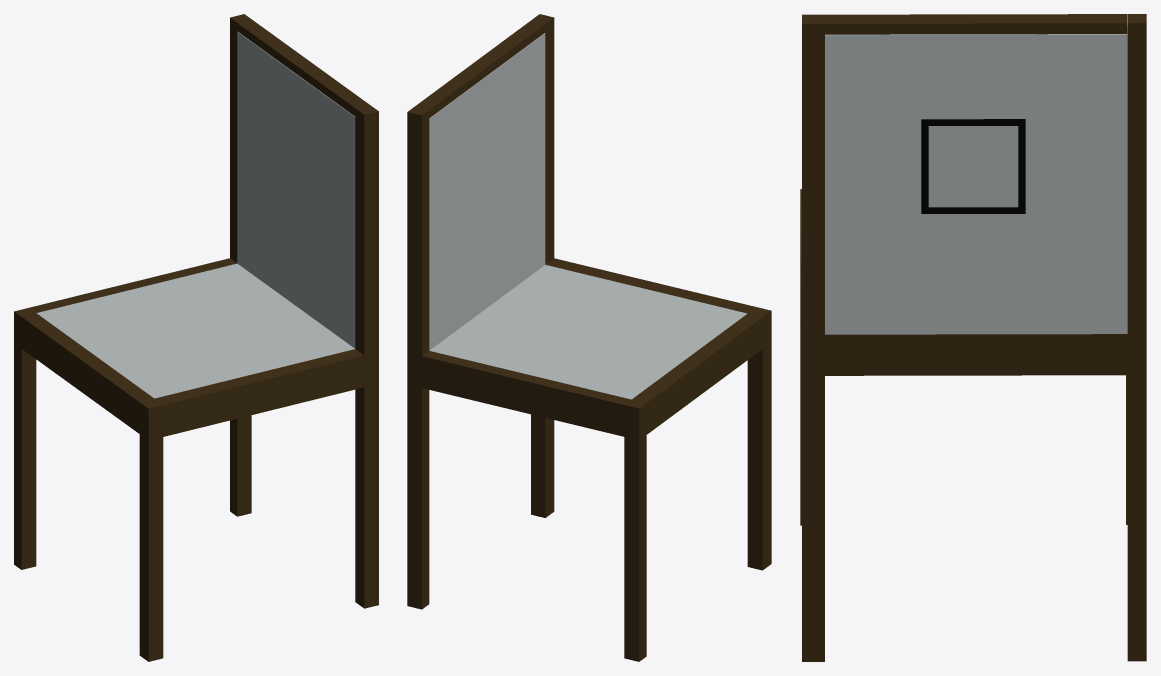
Rendered from kvadrat.fbx.
The picture shows the model from 3 angles, left to right: view 1: azimuth 30°, elevation 25°; view 2: azimuth 150°, elevation 25°; view 3: azimuth 270°, elevation 25°; orthographic projection. The views are drawn at different scales.
Parts seen in each view (by area): view 1: Cube; view 2: Cube; view 3: Cube, Kvadrat.
Boxes of the visible parts, x1,y1,x2,y2 form: Cube: (14,14,378,661); Cube: (407,14,771,661); Cube: (800,14,1146,661); Kvadrat: (921,119,1025,213).
Bounding box in the file's own units: 201 × 409 × 201.
